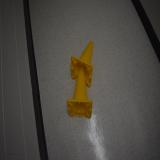cone: (67, 66, 93, 118), (70, 41, 94, 88)
